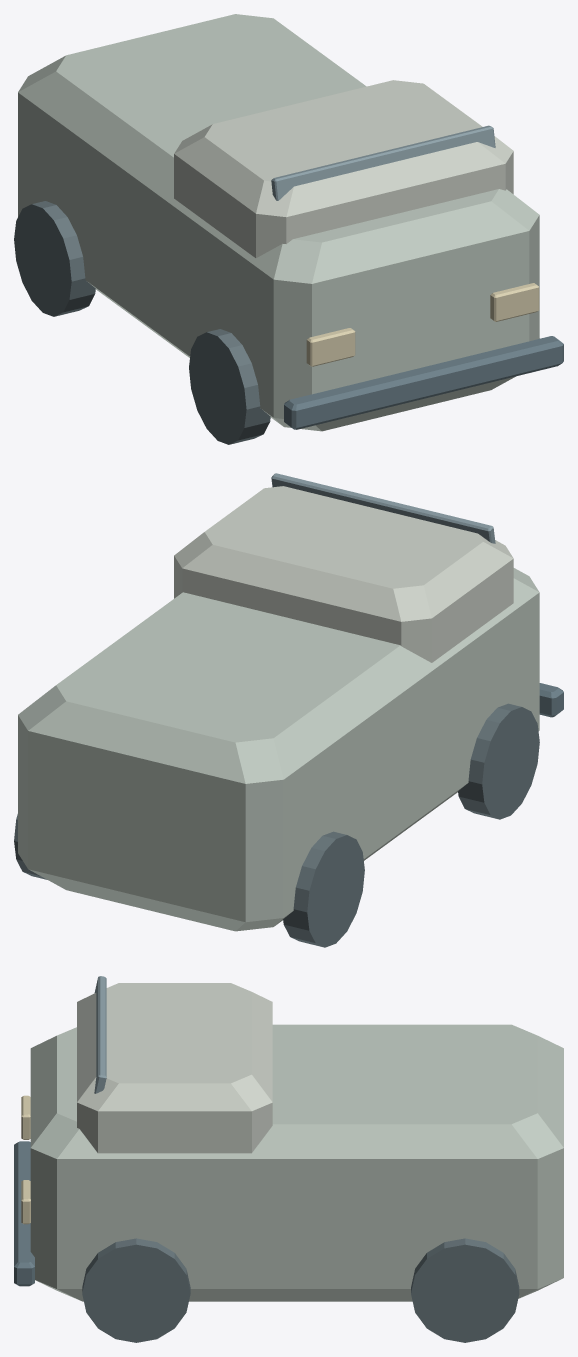
The model's file is delivery_van.glb.
3 views of the same model, one above another, from view 1: azimuth 30°, elevation 25°; view 2: azimuth 150°, elevation 25°; view 3: azimuth 270°, elevation 25° (orthographic). The views are drawn at different scales.
Parts seen in each view (by area): view 1: delivery_van; view 2: delivery_van; view 3: delivery_van.
Boxes of the visible parts, x1,y1,x2,y2 form: delivery_van: (14,14,563,444); delivery_van: (14,473,563,947); delivery_van: (14,976,563,1342).
Size of the model in its own units: 1.82 by 1.58 by 3.14.
